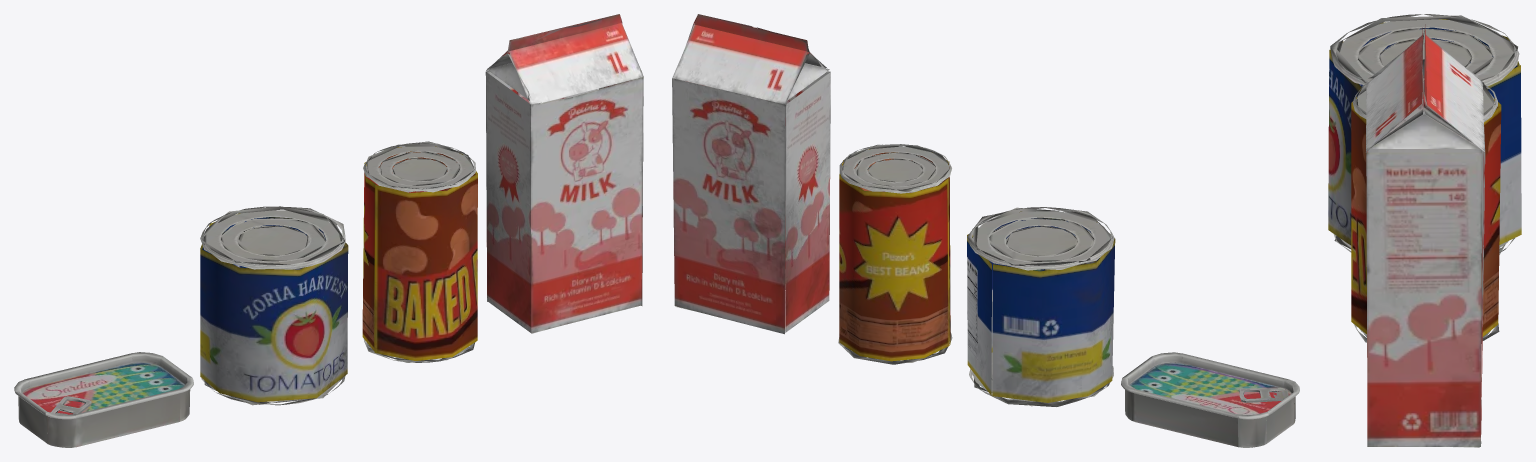
The model's file is long_life_food.glb.
3 renders of one model, left to right at view 1: azimuth 30°, elevation 25°; view 2: azimuth 150°, elevation 25°; view 3: azimuth 270°, elevation 25°, orthographic. The views are drawn at different scales.
Parts seen in each view (by area): view 1: long_life_food_milk, long_life_food_tomatoes, long_life_food_beans, long_life_food_sardines; view 2: long_life_food_milk, long_life_food_tomatoes, long_life_food_beans, long_life_food_sardines; view 3: long_life_food_milk, long_life_food_tomatoes, long_life_food_beans.
Boxes of the visible parts, x1=… form: long_life_food_milk: x1=485, y1=14, x2=643, y2=333; long_life_food_tomatoes: x1=200, y1=206, x2=348, y2=405; long_life_food_beans: x1=362, y1=141, x2=477, y2=362; long_life_food_sardines: x1=14, y1=352, x2=193, y2=447; long_life_food_milk: x1=672, y1=14, x2=830, y2=334; long_life_food_tomatoes: x1=967, y1=207, x2=1115, y2=406; long_life_food_beans: x1=838, y1=144, x2=952, y2=364; long_life_food_sardines: x1=1121, y1=352, x2=1299, y2=447; long_life_food_milk: x1=1365, y1=24, x2=1485, y2=447; long_life_food_tomatoes: x1=1328, y1=14, x2=1521, y2=254; long_life_food_beans: x1=1351, y1=78, x2=1501, y2=342.
Size of the model in its own units: 0.5251 by 0.236 by 0.1157.
1 material, 1 textured.
